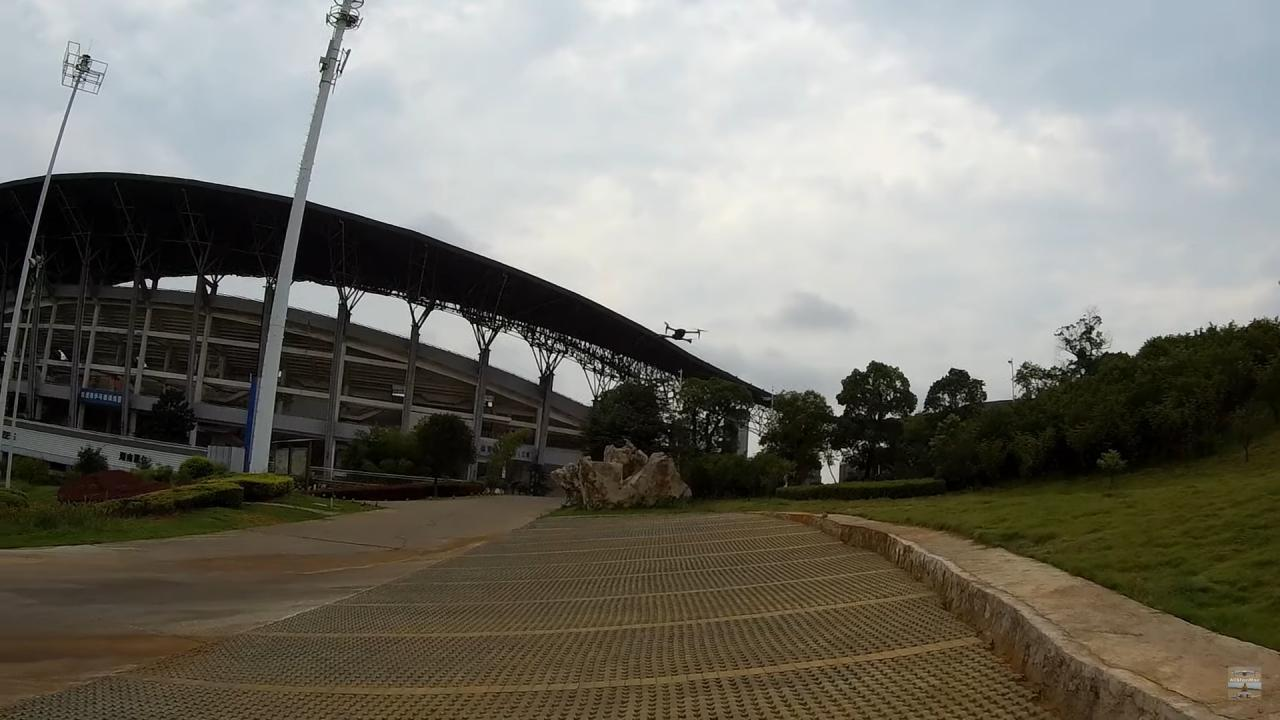Drone: (649, 317, 712, 350)
